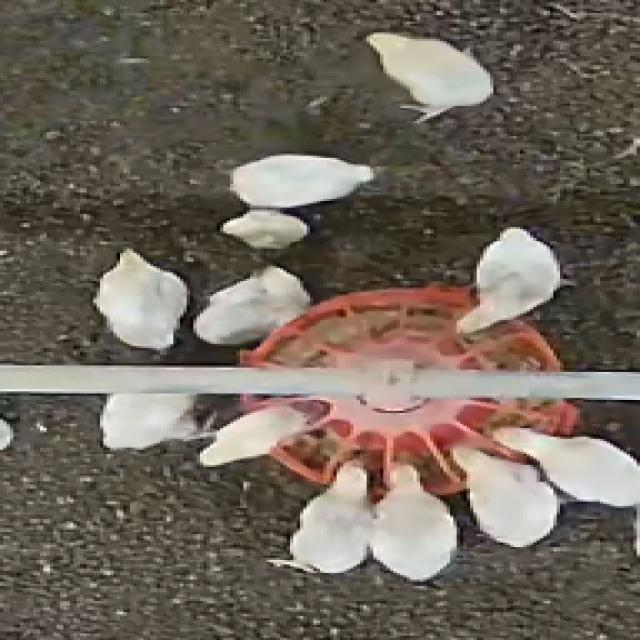broiler: (363, 32, 490, 121), (493, 428, 637, 506), (457, 227, 560, 333), (370, 465, 453, 579), (457, 448, 553, 545), (93, 249, 187, 348), (193, 266, 307, 342), (290, 463, 367, 571), (230, 154, 370, 208), (200, 404, 303, 465), (103, 394, 207, 448), (220, 210, 307, 246)
pipe: (0, 363, 360, 391), (410, 370, 637, 398)
rice: (240, 285, 557, 383), (300, 391, 573, 463), (273, 441, 337, 478)
